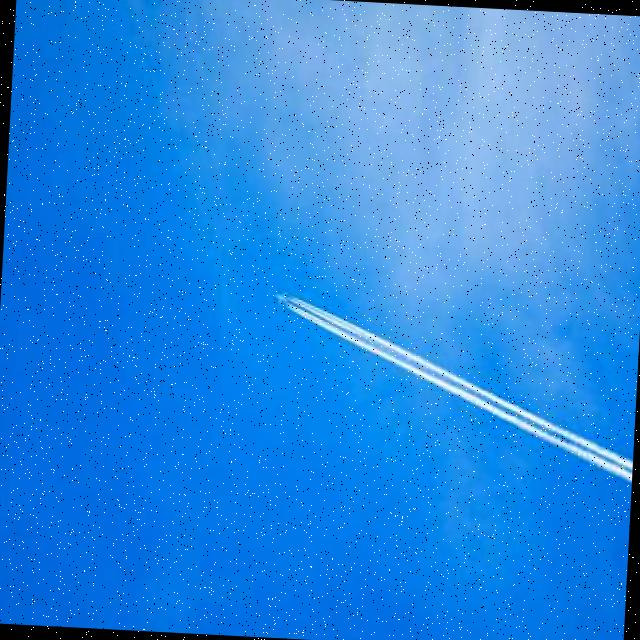Ct: (1, 32, 640, 533)
